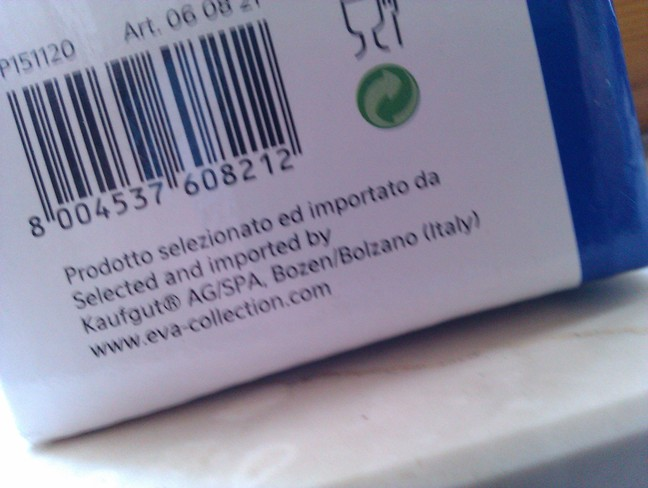barcode: (1, 15, 325, 242)
